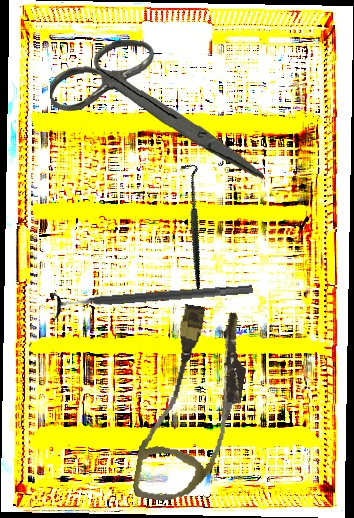Cannula: (131, 300, 255, 511)
Fixation Ring: (49, 273, 255, 323)
Hook Surgical: (137, 160, 246, 290)
Iris Scissors: (48, 35, 264, 187)
